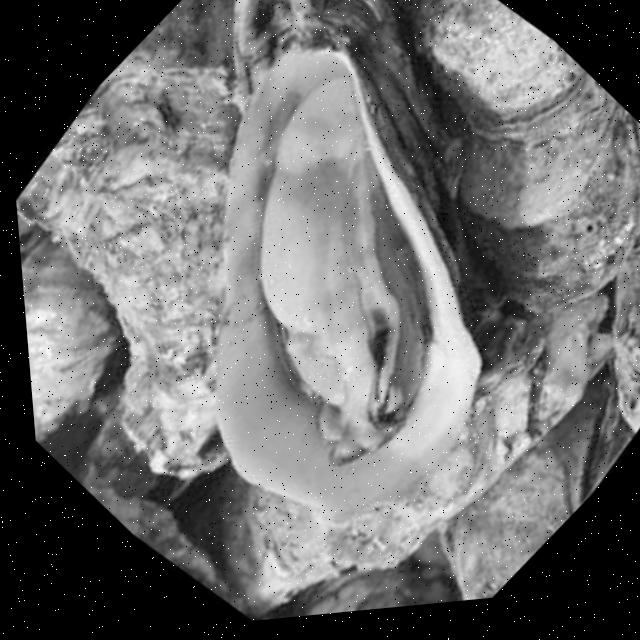Oyster-Closed: (466, 106, 640, 317), (407, 0, 604, 151), (18, 220, 127, 465), (454, 82, 628, 231)
Oyster-Indeterminate: (205, 276, 623, 620), (16, 0, 243, 493), (433, 354, 640, 601), (296, 524, 469, 617), (601, 188, 640, 451)
Oyster-Open: (199, 0, 494, 532)
